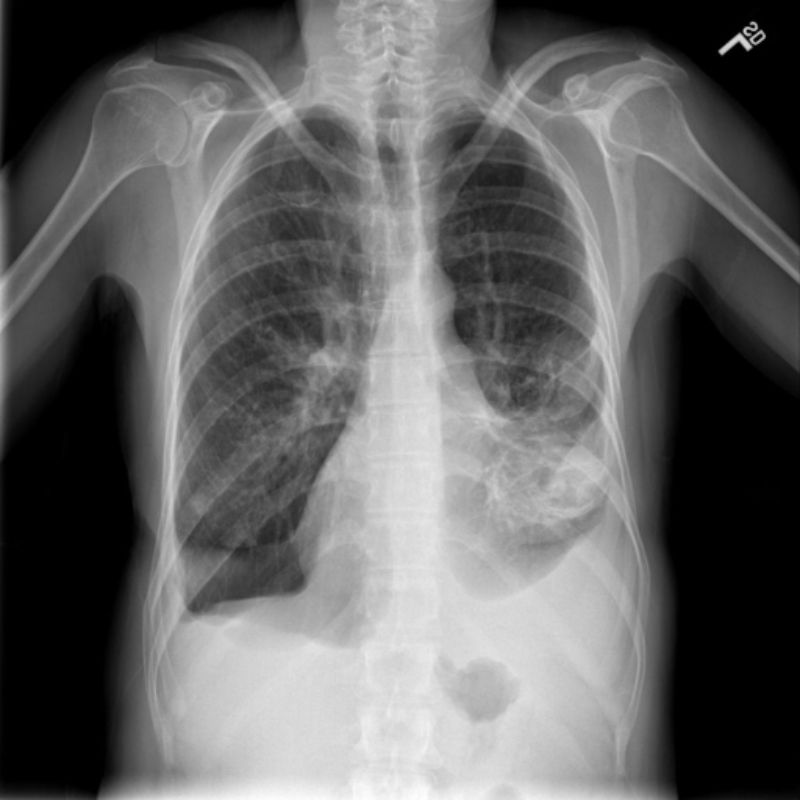Pleural Effusion: (515, 447, 646, 708), (141, 594, 308, 687)
